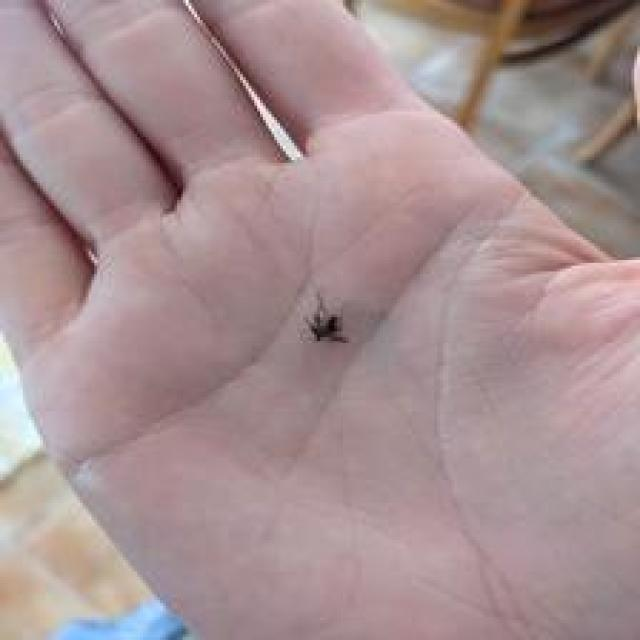Aedes albopictus: (303, 293, 348, 344)
